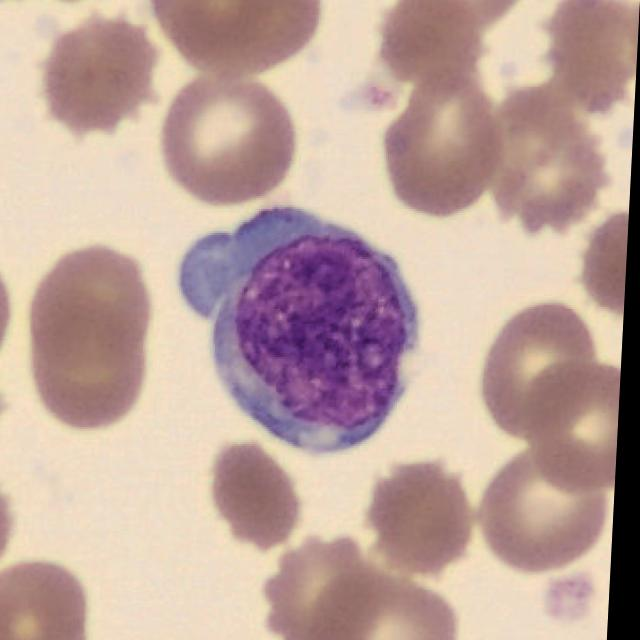Linfocito: (182, 207, 422, 453)
